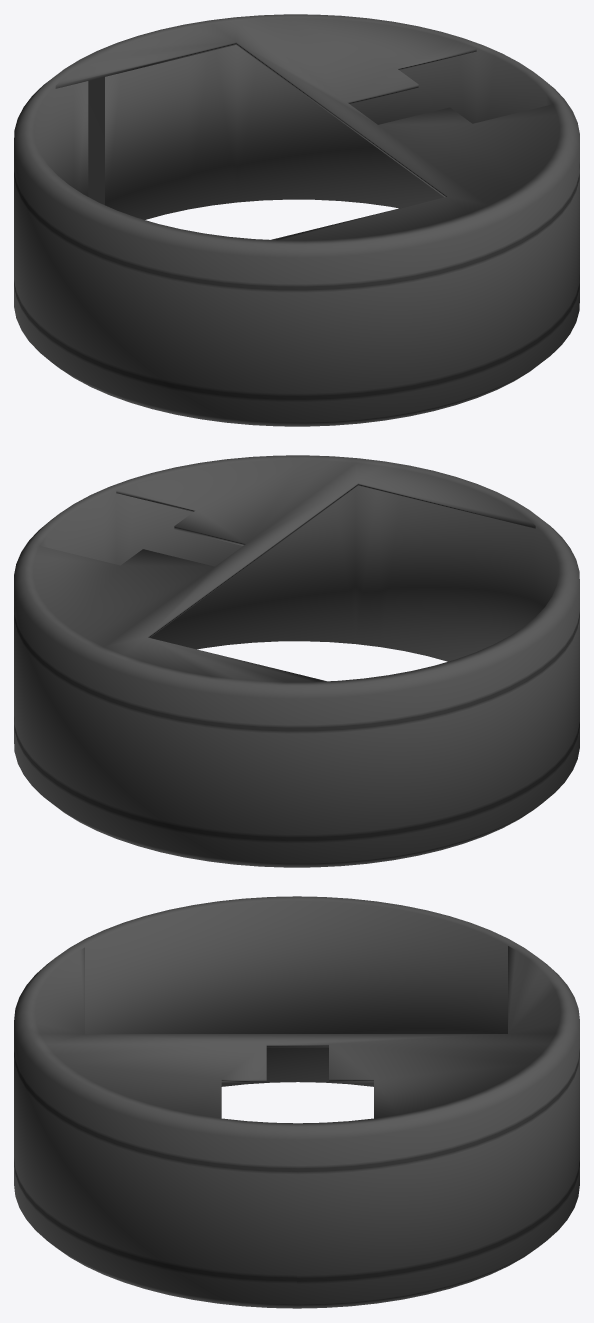
Rendered from base_light.dae.
The picture shows the model from 3 angles, top to bottom: view 1: azimuth 30°, elevation 25°; view 2: azimuth 150°, elevation 25°; view 3: azimuth 270°, elevation 25°; orthographic projection.
Visible parts, largest first — view 1: Base; view 2: Base; view 3: Base.
Part boxes in pixels (x1=…): Base: x1=14, y1=14, x2=579, y2=426; Base: x1=14, y1=455, x2=579, y2=867; Base: x1=14, y1=896, x2=579, y2=1308.
Size of the model in its own units: 0.3703 by 0.3703 by 0.1307.
1 material, 1 textured.
